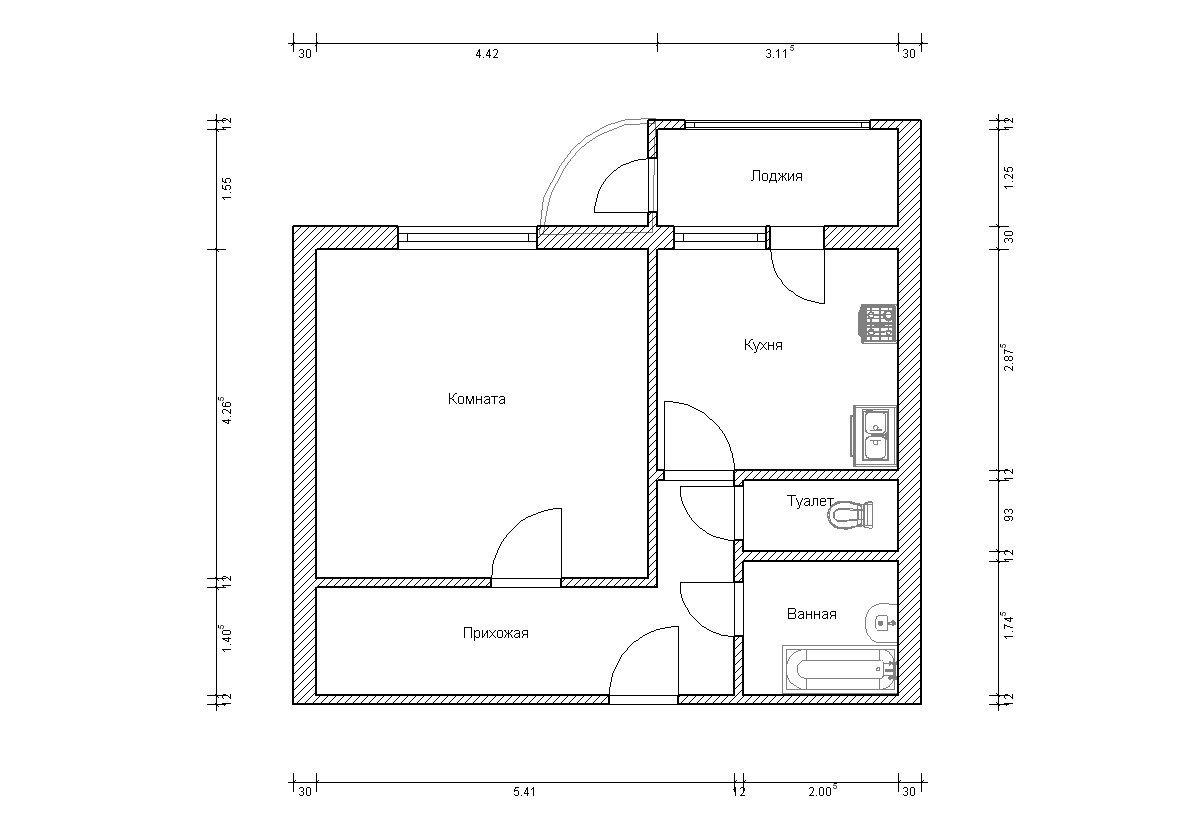balcony: (656, 248, 897, 470), (657, 128, 899, 228)
bathroom: (743, 560, 899, 696)
bedroom: (314, 249, 648, 579)
hallway: (316, 480, 736, 697)
toilet: (743, 480, 900, 551)
